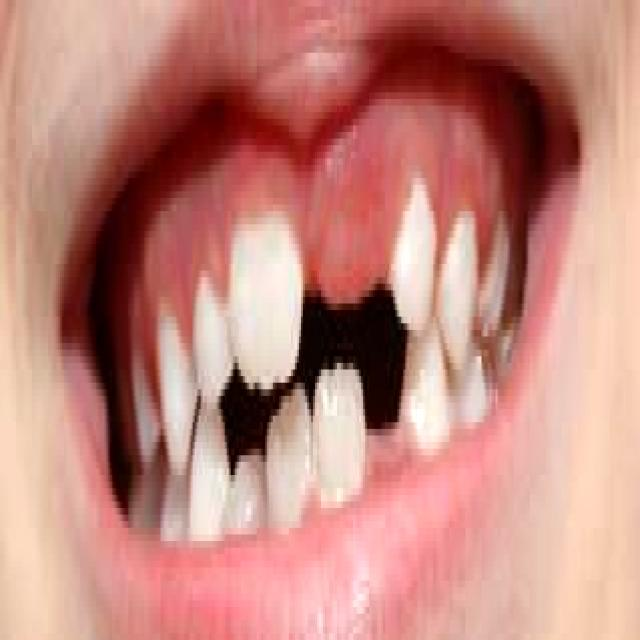hypodontia: (285, 125, 435, 330), (353, 342, 430, 500)
